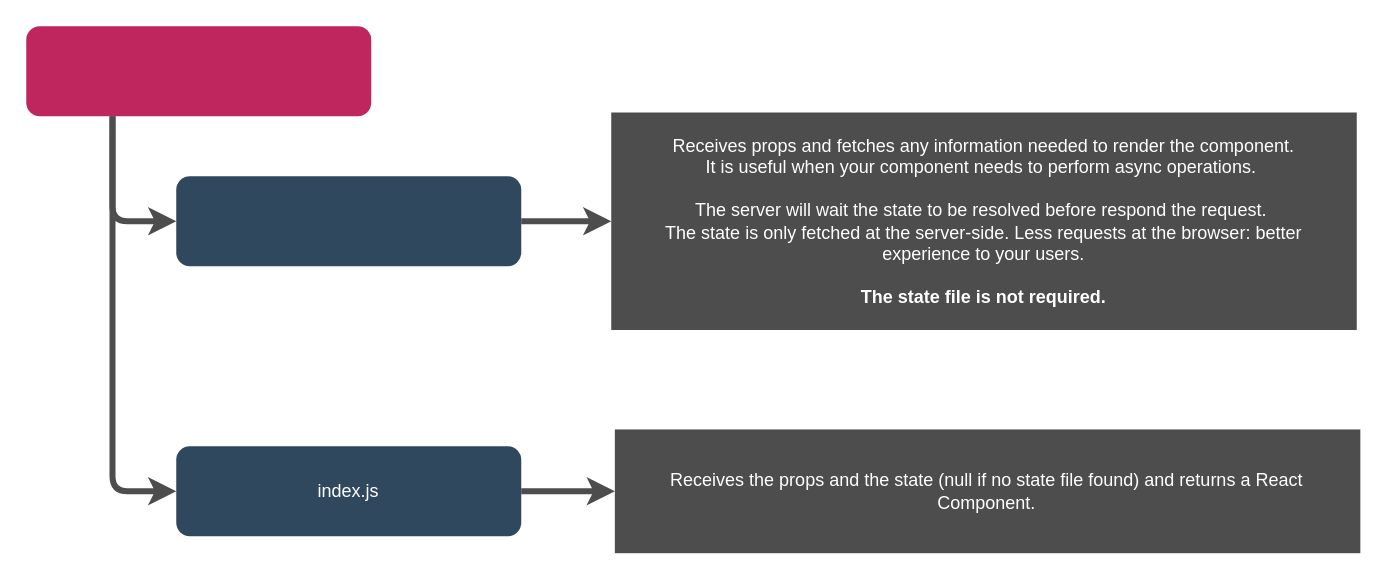
This 1386x579 diagram has some shape labels left out. The shapes that lost their labels are listed below. From the top down, each one's centre as x and y in pixels, then its label:
At [198,71]: "/ragu-component/my-component/".
At [348,221]: "state.js".
